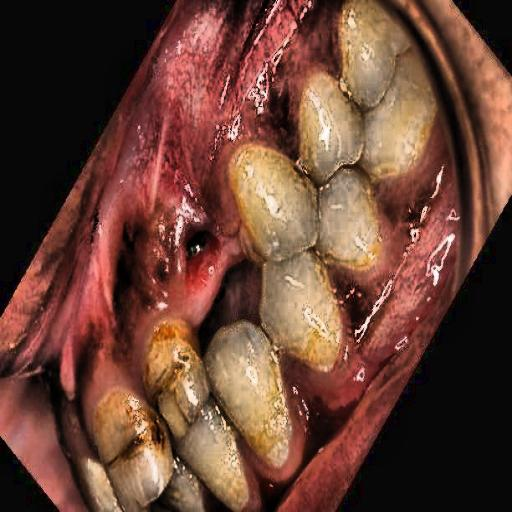Calculus: (227, 298, 369, 464), (92, 333, 210, 501), (223, 62, 357, 204), (286, 200, 391, 290), (326, 0, 410, 80)
